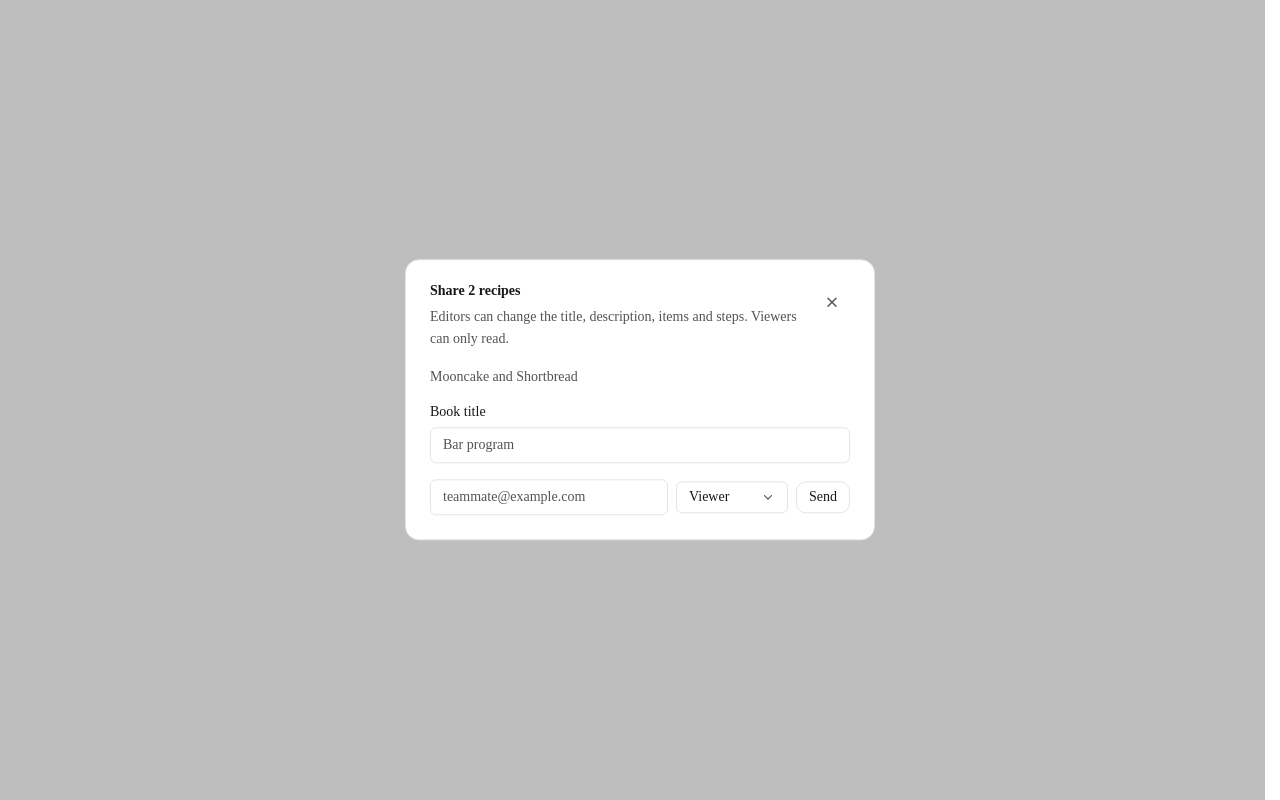
Test: sharing a selection of recipes › asks before dropping an address that was never sent
Type "chef@example.com" into the field with placeholder "teammate@example.com" at (549, 498), box [430,480,668,516]
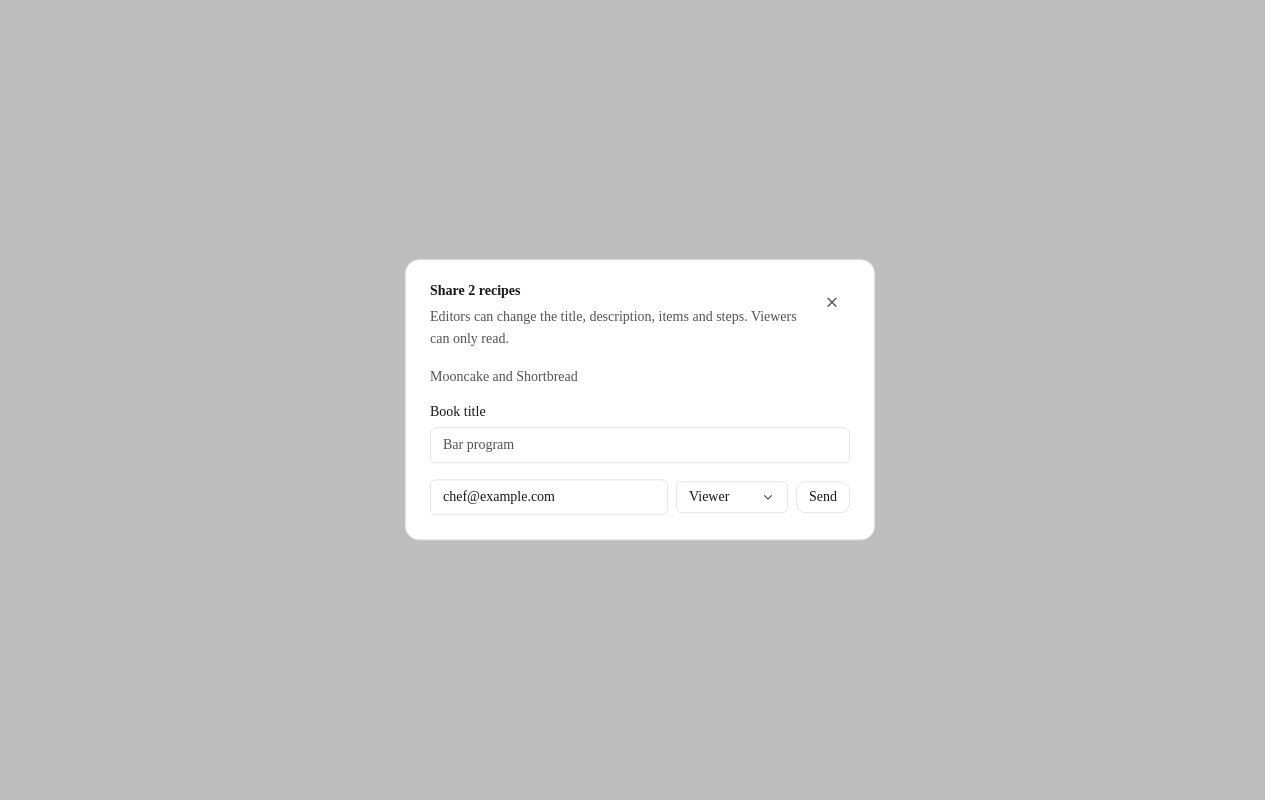
Click the button named "Close" at (832, 302), box [814,284,850,320]
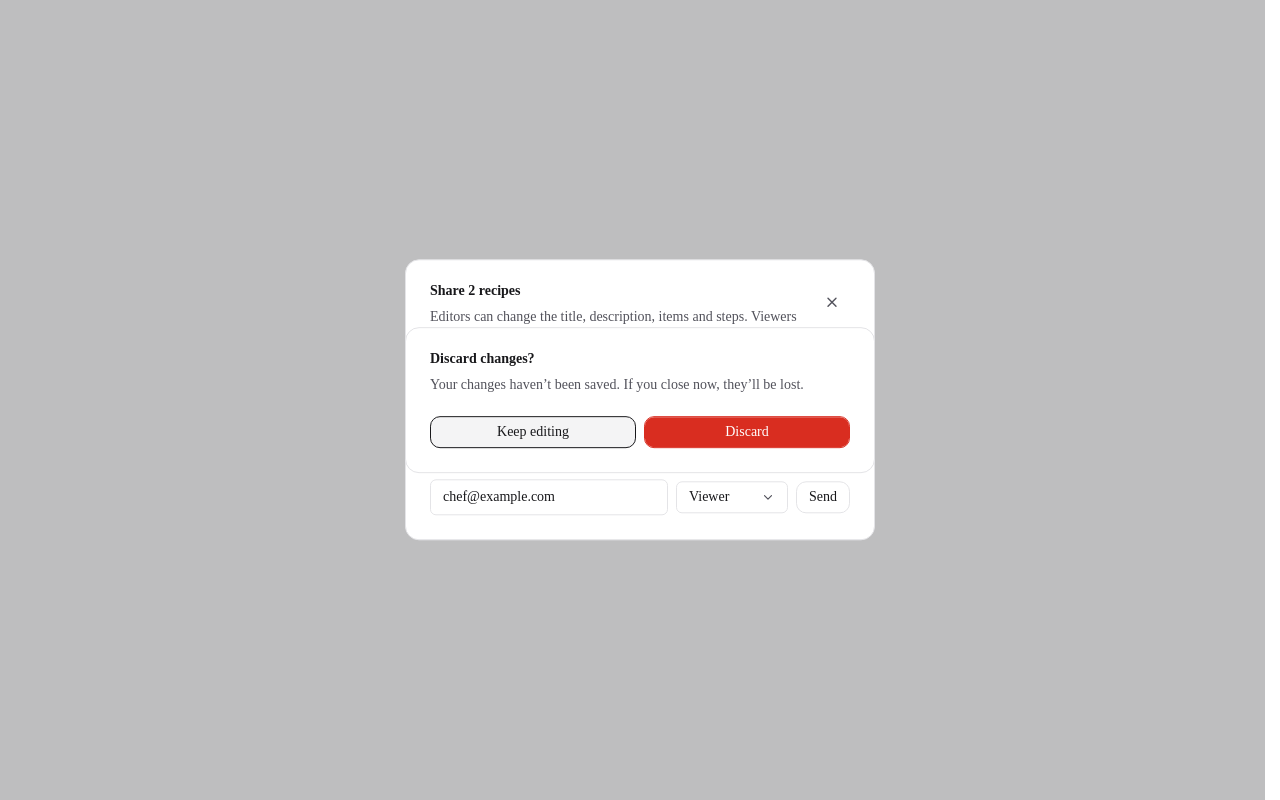
Check: the heading "Discard changes?" is shown, box [430,351,535,366]
